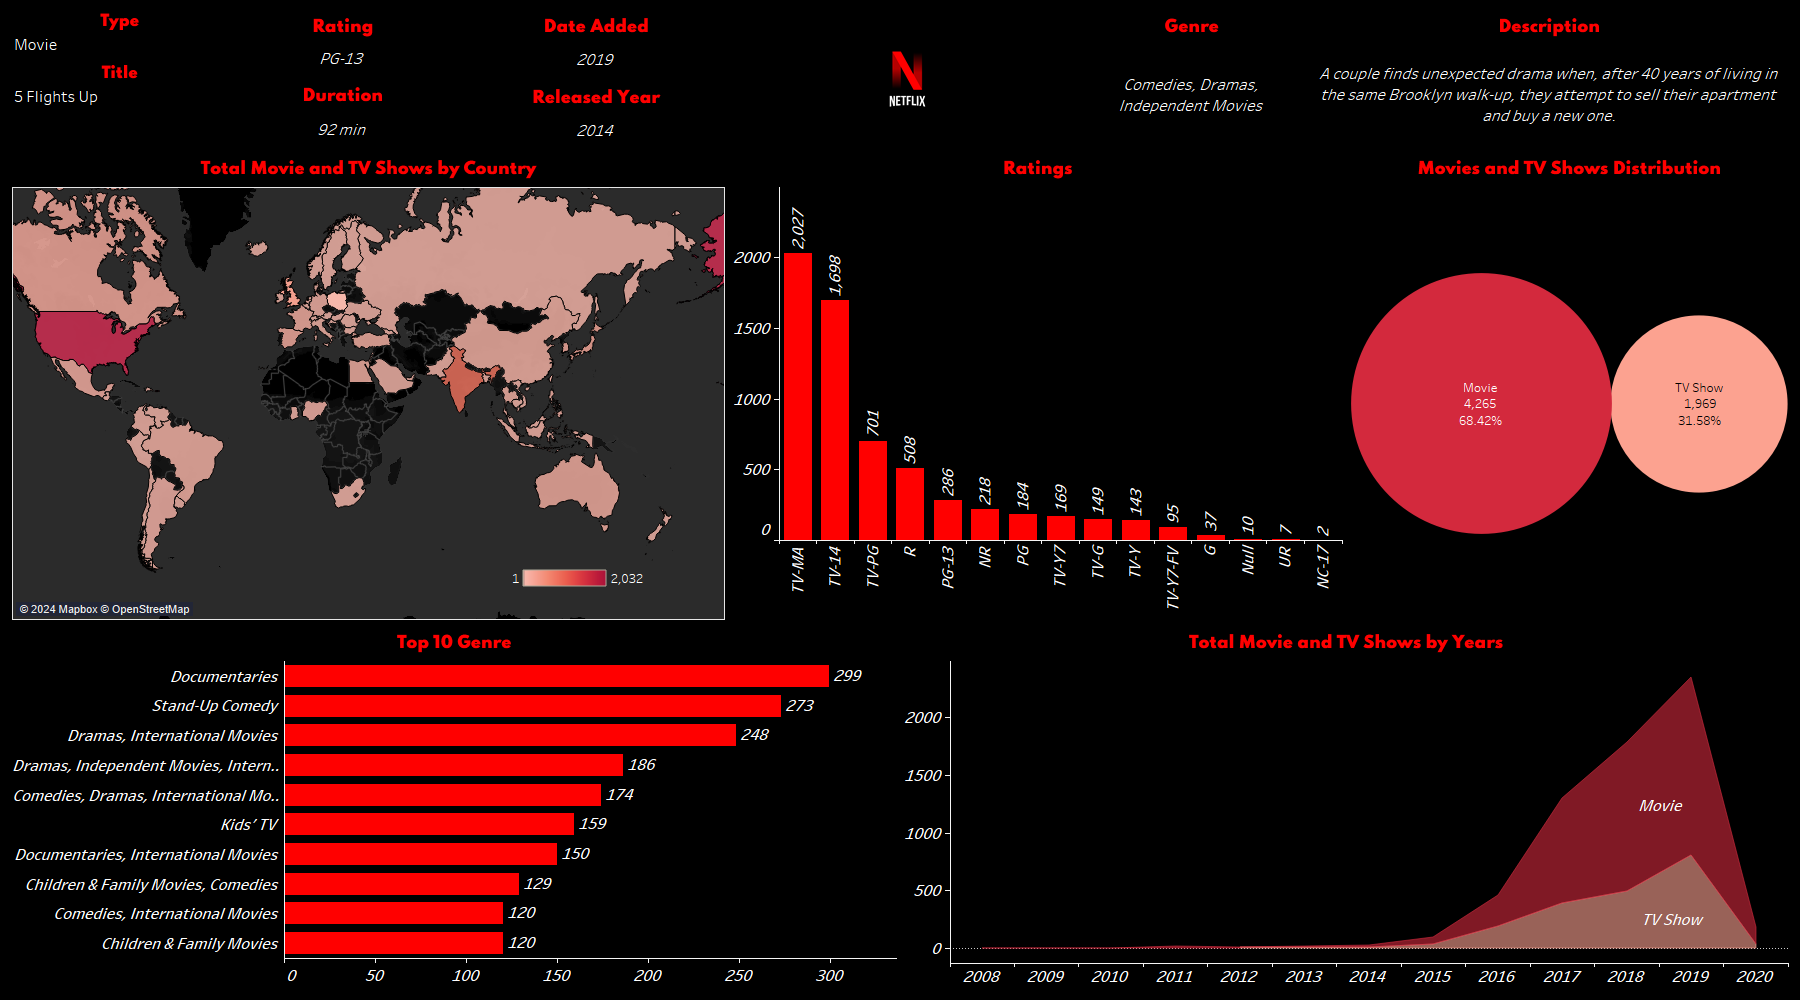

What the dashboard file says about the page in this screenshot:
{"tool":"tableau","page":{"name":"Netflix","canvas":[1800,1000],"ordinal":0},"visuals":[{"type":"filter","title":"description","param":"[federated.17kduec0tlakam1f4m1hu194xjgs].[none:type:nk]","box":[8,8,223,52]},{"type":"worksheet","title":"rating","mark":"Automatic","box":[231,8,223,69]},{"type":"worksheet","title":"date added","mark":"Automatic","box":[454,8,284,71]},{"type":"image","param":"Image/netflix__1_.png","box":[738,8,339,142]},{"type":"worksheet","title":"genre","mark":"Automatic","box":[1077,8,229,142]},{"type":"worksheet","title":"description","mark":"Automatic","box":[1306,8,486,142]},{"type":"filter","title":"description","param":"[federated.17kduec0tlakam1f4m1hu194xjgs].[none:title:nk]","box":[8,60,223,90]},{"type":"worksheet","title":"duration","mark":"Automatic","box":[231,77,223,73]},{"type":"worksheet","title":"released year","mark":"Automatic","box":[454,79,284,71]},{"type":"worksheet","title":"total mov and tv shows by country","mark":"Multipolygon","box":[8,150,720.6,474.3]},{"type":"worksheet","title":"ratings","mark":"Automatic","rows":["show_id"],"cols":["rating"],"box":[728.6,150,617.4,474.3]},{"type":"worksheet","title":"movies & tv shows distribution","mark":"Circle","box":[1345.9,150,446.1,474.3]},{"type":"legend","title":"total mov and tv shows by country","param":"[federated.17kduec0tlakam1f4m1hu194xjgs].[ctd:show_id:qk]","box":[508,566,140,44]},{"type":"worksheet","title":"top 10 genres","mark":"Automatic","rows":["listed_in"],"cols":["show_id"],"box":[8,624.3,892,367.7]},{"type":"worksheet","title":"total mov and tv shows by yr","mark":"Area","rows":["show_id"],"cols":["date_added"],"box":[899.9,624.3,892.1,367.7]}]}

Visuals, with their boxes in screenshot pixels (x1, y1, x2, y2), scaled from the page's 1800x1000 canvas onto the 1800x1000 screenshot:
"description" filter: locate(8, 8, 231, 60)
"rating" worksheet: locate(231, 8, 454, 77)
"date added" worksheet: locate(454, 8, 738, 79)
image: locate(738, 8, 1077, 150)
"genre" worksheet: locate(1077, 8, 1306, 150)
"description" worksheet: locate(1306, 8, 1792, 150)
"description" filter: locate(8, 60, 231, 150)
"duration" worksheet: locate(231, 77, 454, 150)
"released year" worksheet: locate(454, 79, 738, 150)
"total mov and tv shows by country" worksheet (Multipolygon marks): locate(8, 150, 729, 624)
"ratings" worksheet: locate(729, 150, 1346, 624)
"movies & tv shows distribution" worksheet (Circle marks): locate(1346, 150, 1792, 624)
"total mov and tv shows by country" legend: locate(508, 566, 648, 610)
"top 10 genres" worksheet: locate(8, 624, 900, 992)
"total mov and tv shows by yr" worksheet (Area marks): locate(900, 624, 1792, 992)
